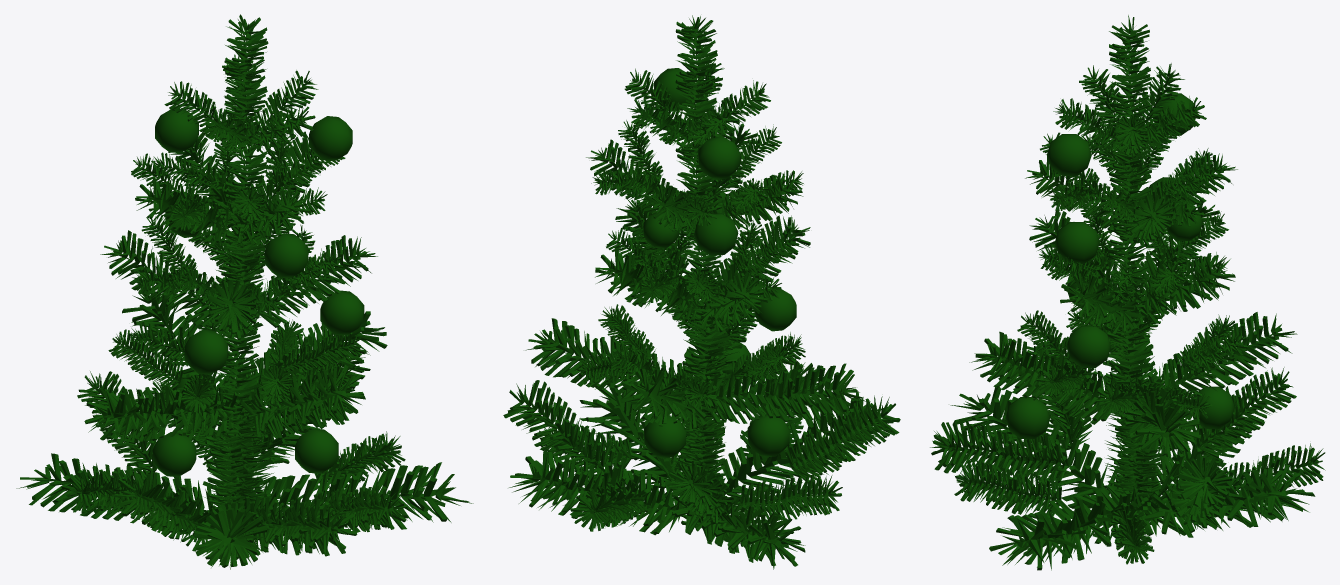
File: SubTree.FBX
The picture shows the model from 3 angles, left to right: view 1: azimuth 30°, elevation 25°; view 2: azimuth 150°, elevation 25°; view 3: azimuth 270°, elevation 25°; orthographic projection. The views are drawn at different scales.
Parts seen in each view (by area): view 1: subTreeBottom, subTreeTop, ball; view 2: subTreeBottom, subTreeTop, ball; view 3: subTreeBottom, subTreeTop, ball.
Boxes of the visible parts, x1,y1,x2,y2 form: subTreeBottom: (16,311,473,569); subTreeTop: (100,14,377,505); ball: (152,108,364,477); subTreeBottom: (503,266,900,569); subTreeTop: (586,15,810,489); ball: (629,68,796,458); subTreeBottom: (930,291,1325,570); subTreeTop: (1025,15,1297,499); ball: (1005,93,1234,438).
Bounding box in the file's own units: 165 × 250 × 175.
